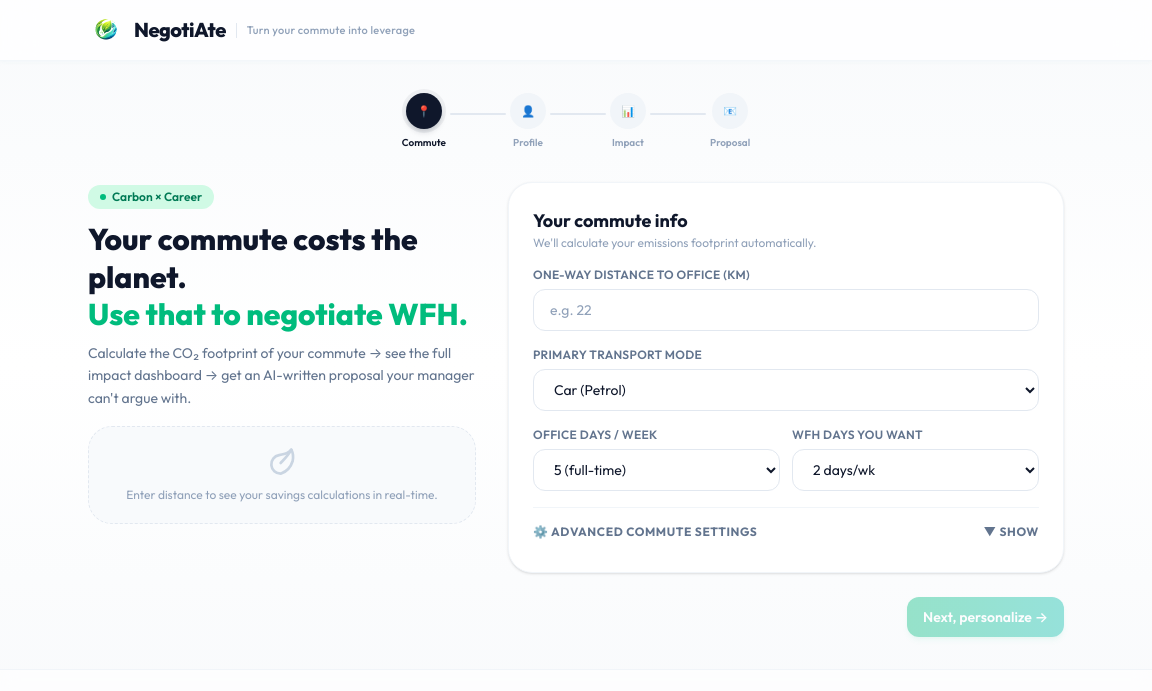
App root integration flow tests › navigates from Step 1 to Step 2 when distance is populated and next is clicked
This screenshot has width=1152, height=691.
Type "25" into the number field labelled "One-way distance to office (km)" at (786, 310), box [533,289,1039,331]
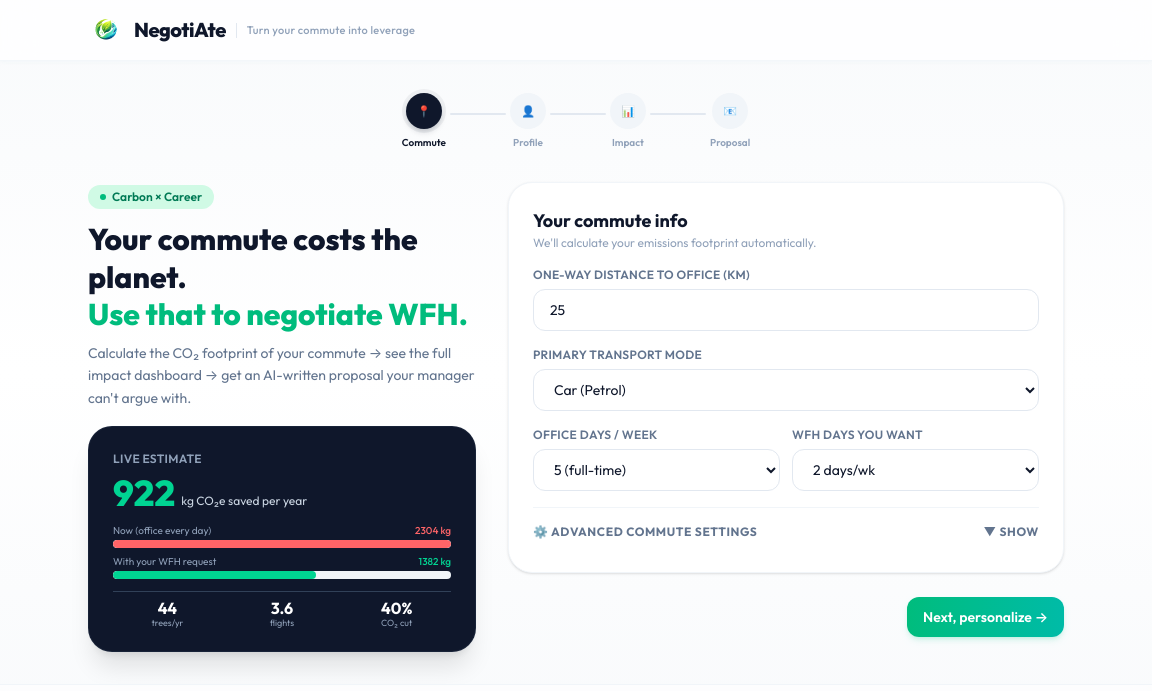
Expected: the button "Next, personalize →" is enabled
Click the button "Next, personalize →" at (986, 617), box [907,597,1064,637]
(page scrolled)
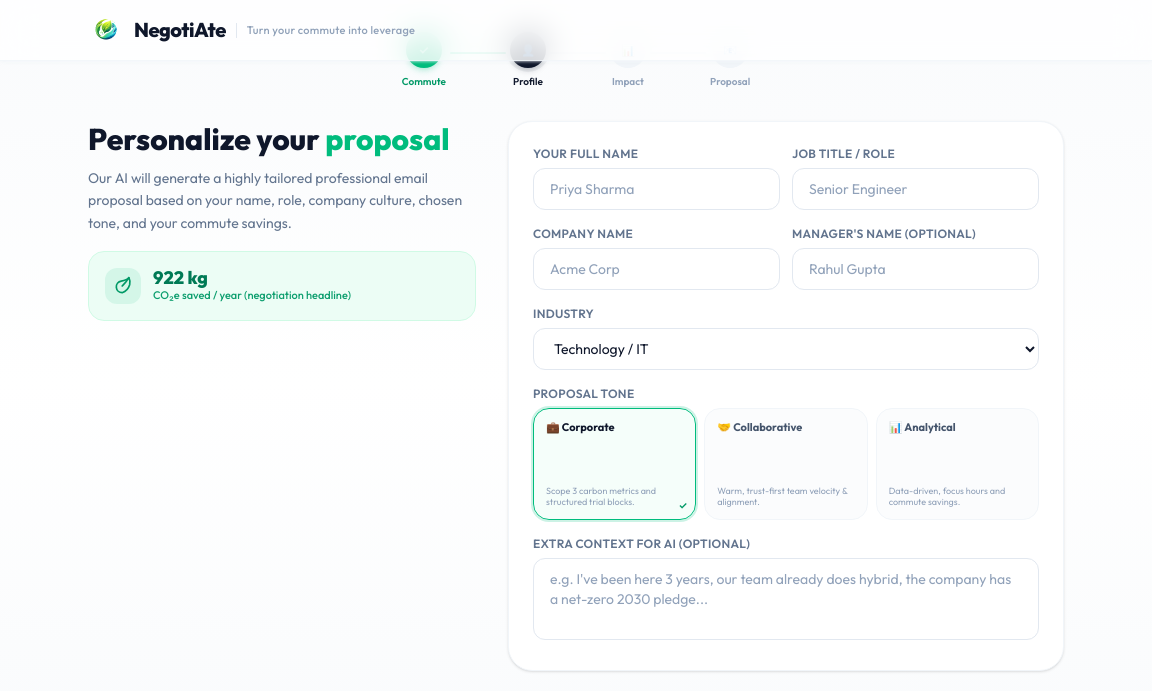
Expected: the heading "Personalize your proposal" is shown, [88,121,476,158]
Expected: the field labelled "Your full name" is shown, [533,168,780,210]
